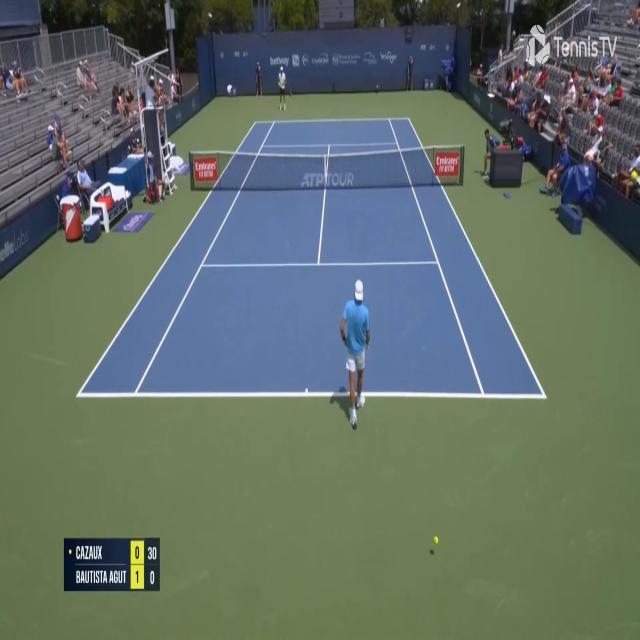tennis-player: (330, 276, 372, 432), (277, 64, 289, 110)
